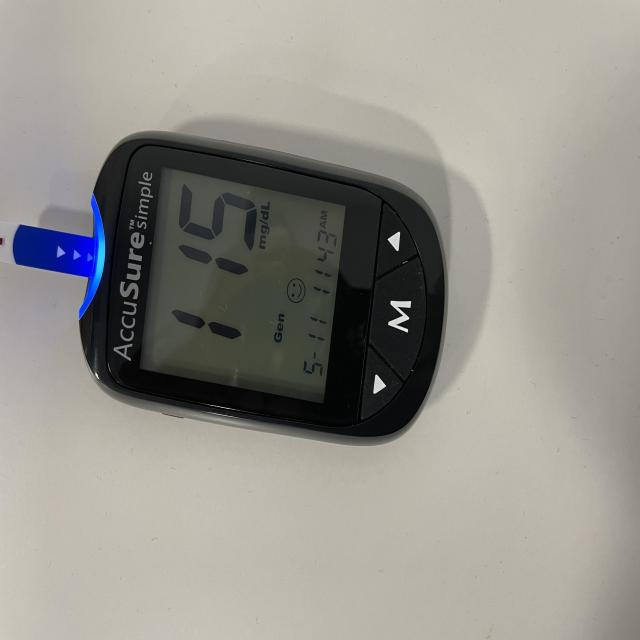gluco: (16, 132, 451, 442)
